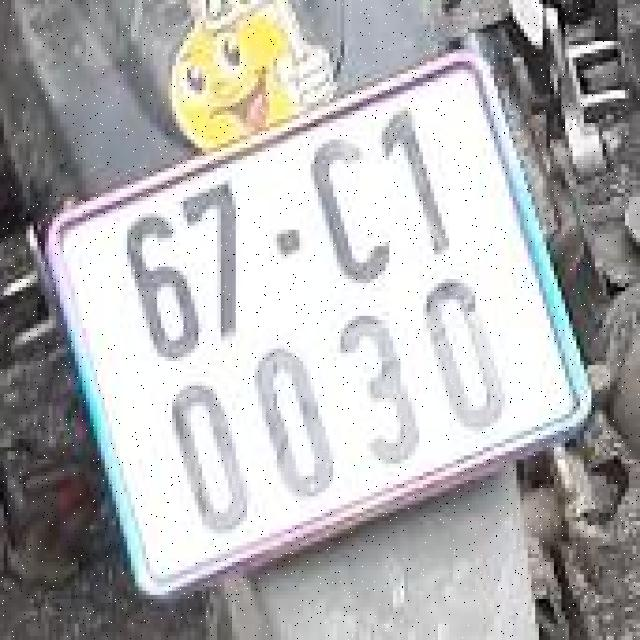0: (419, 246, 513, 443), (255, 334, 333, 515), (170, 382, 245, 538)
1: (384, 104, 458, 260)
3: (337, 293, 419, 474)
6: (122, 205, 200, 369)
7: (183, 160, 251, 341)
C: (309, 121, 391, 314)
